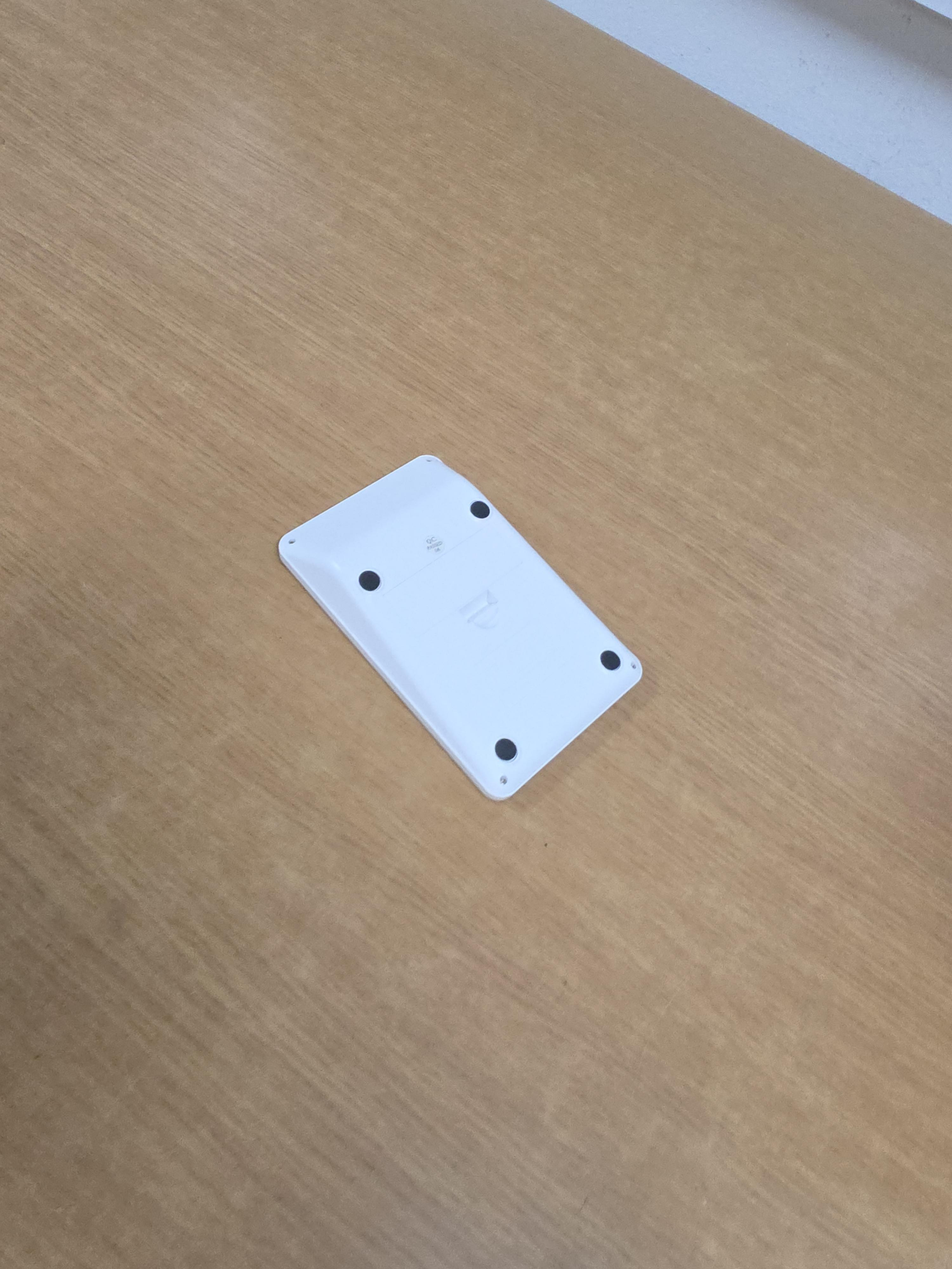calculator: (278, 454, 643, 802)
